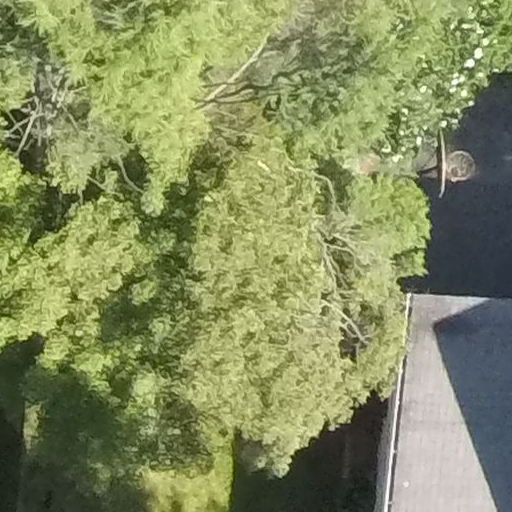basketball: (419, 113, 481, 198)
